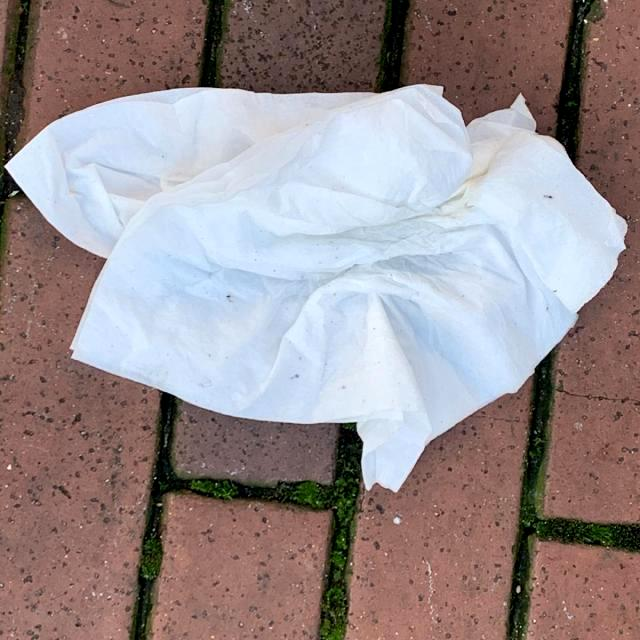Paper: (0, 82, 630, 496)
